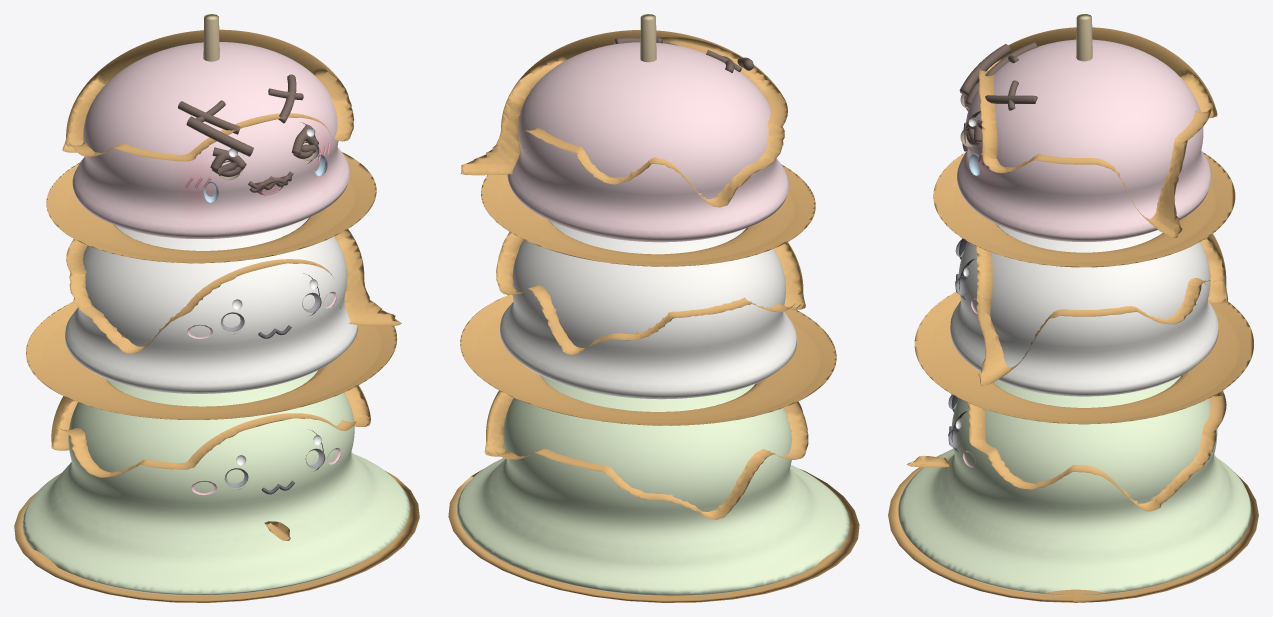
The model's file is f_dango_caramel_slime.glb.
3 renders of one model, left to right at view 1: azimuth 30°, elevation 25°; view 2: azimuth 150°, elevation 25°; view 3: azimuth 270°, elevation 25°, orthographic.
Parts seen in each view (by area): view 1: BodyMesh, face_brows_angry, face_brow_smug, face_eyes_happy; view 2: BodyMesh; view 3: BodyMesh, face_brows_angry, face_brow_smug.
Part boxes in pixels (box(x1,y1,x2,y2)): BodyMesh: box(14, 14, 419, 602); face_brows_angry: box(178, 74, 296, 134); face_brow_smug: box(186, 116, 253, 156); face_eyes_happy: box(210, 132, 318, 170); BodyMesh: box(448, 14, 859, 602); BodyMesh: box(888, 14, 1258, 602); face_brows_angry: box(985, 42, 1037, 103); face_brow_smug: box(959, 44, 1010, 95).
Size of the model in its own units: 1.9 by 2.57 by 1.7.
